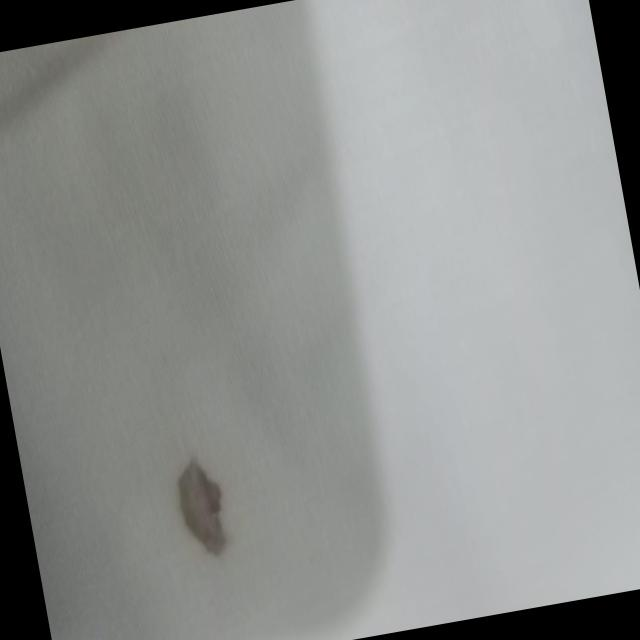stain: (162, 438, 242, 572)
